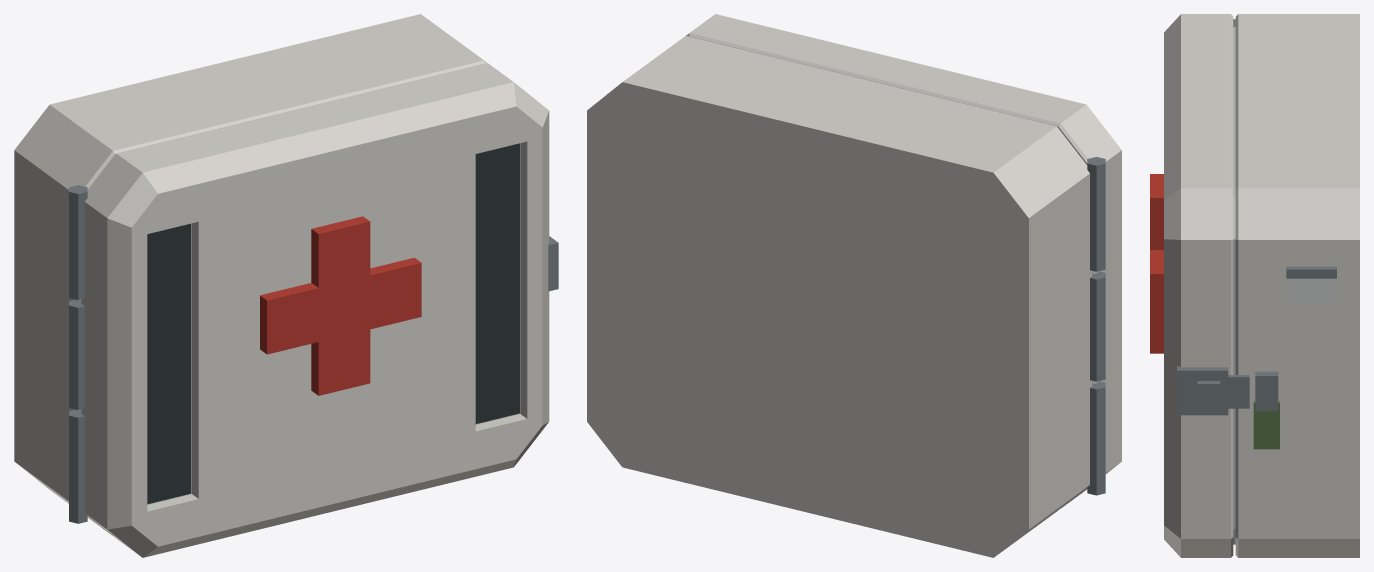
Rendered from wall-first-aid-box-95c087.glb.
The picture shows the model from 3 angles, left to right: view 1: azimuth 30°, elevation 25°; view 2: azimuth 150°, elevation 25°; view 3: azimuth 270°, elevation 25°; orthographic projection. The views are drawn at different scales.
Visible parts, largest first — view 1: lid, wall-first-aid-box; view 2: wall-first-aid-box, lid; view 3: wall-first-aid-box, lid.
Boxes of the visible parts, x1=… form: lid: x1=69, y1=63, x2=558, y2=557; wall-first-aid-box: x1=14, y1=14, x2=487, y2=535; wall-first-aid-box: x1=587, y1=36, x2=1105, y2=557; lid: x1=686, y1=14, x2=1121, y2=507; wall-first-aid-box: x1=1235, y1=14, x2=1359, y2=557; lid: x1=1150, y1=14, x2=1249, y2=557.
Bounding box in the file's own units: 0.3165 × 0.25 × 0.1285.
